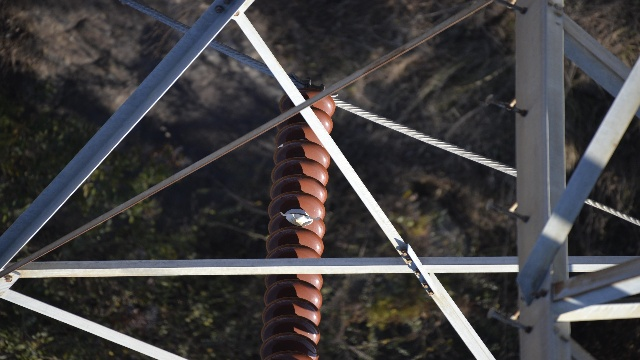broken_local: (279, 211, 322, 227)
insulator_unspecified: (259, 85, 339, 359)
